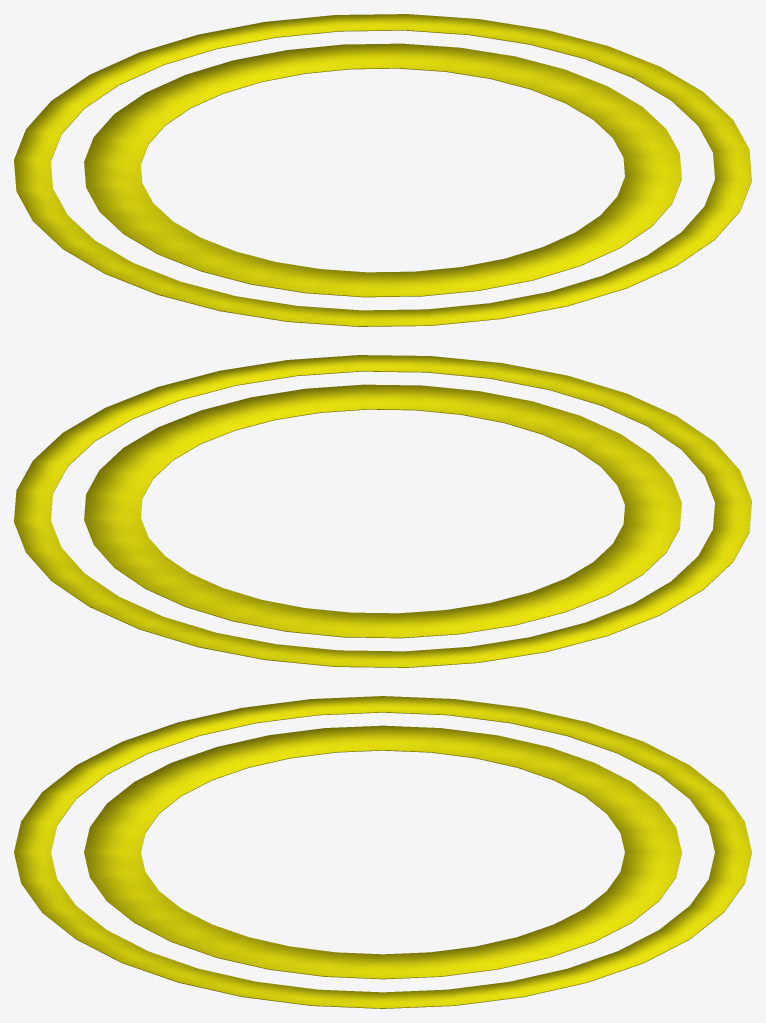
File: rec-model.fbx
3 views of the same model, one above another, from view 1: azimuth 30°, elevation 25°; view 2: azimuth 150°, elevation 25°; view 3: azimuth 270°, elevation 25° (orthographic).
Parts seen in each view (by area): view 1: rec-model; view 2: rec-model; view 3: rec-model.
Part boxes in pixels (x1=…): rec-model: x1=14, y1=14, x2=751, y2=326; rec-model: x1=14, y1=355, x2=751, y2=667; rec-model: x1=14, y1=696, x2=751, y2=1008.
Bounding box in the file's own units: 2 × 0.0031 × 2.
